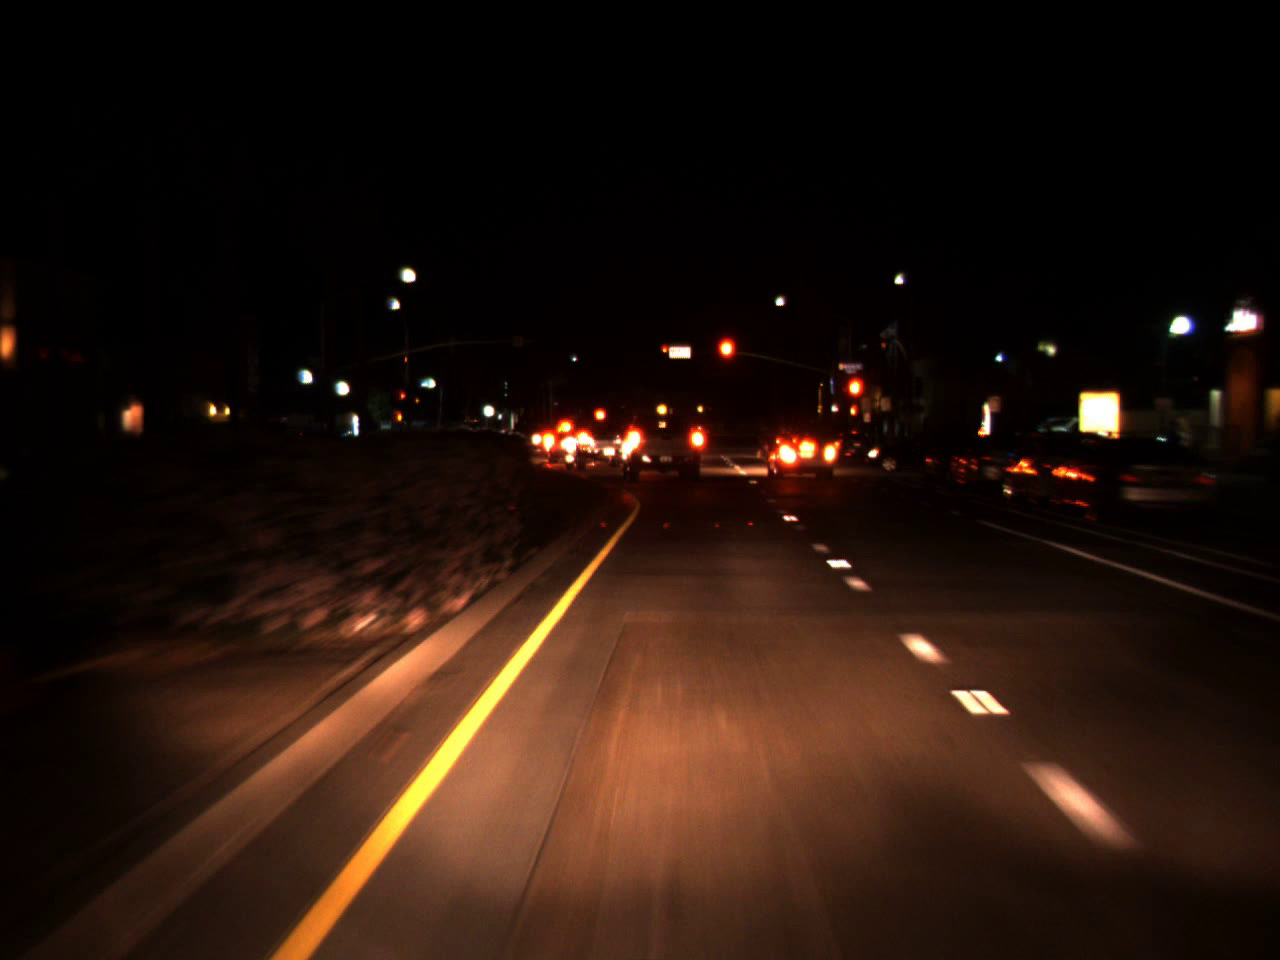stop: (715, 334, 737, 382), (845, 373, 866, 421), (660, 344, 670, 360), (400, 391, 406, 404)
